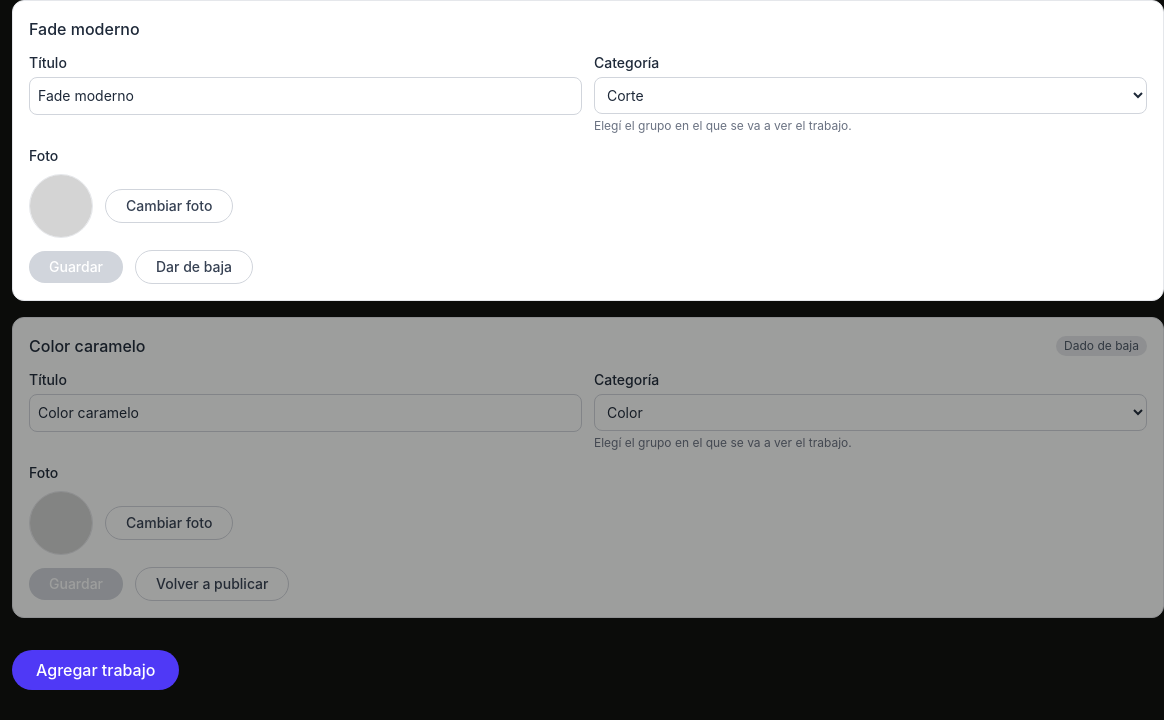
SeccionGaleriaComponent › guardar un trabajo › al guardar un trabajo dado de baja confirma que ya no se ve
Replace the text in the field labelled "Título" below "Color caramelo" with "Color caramelo nuevo" at (306, 413), box x1=29 y1=394 x2=582 y2=432
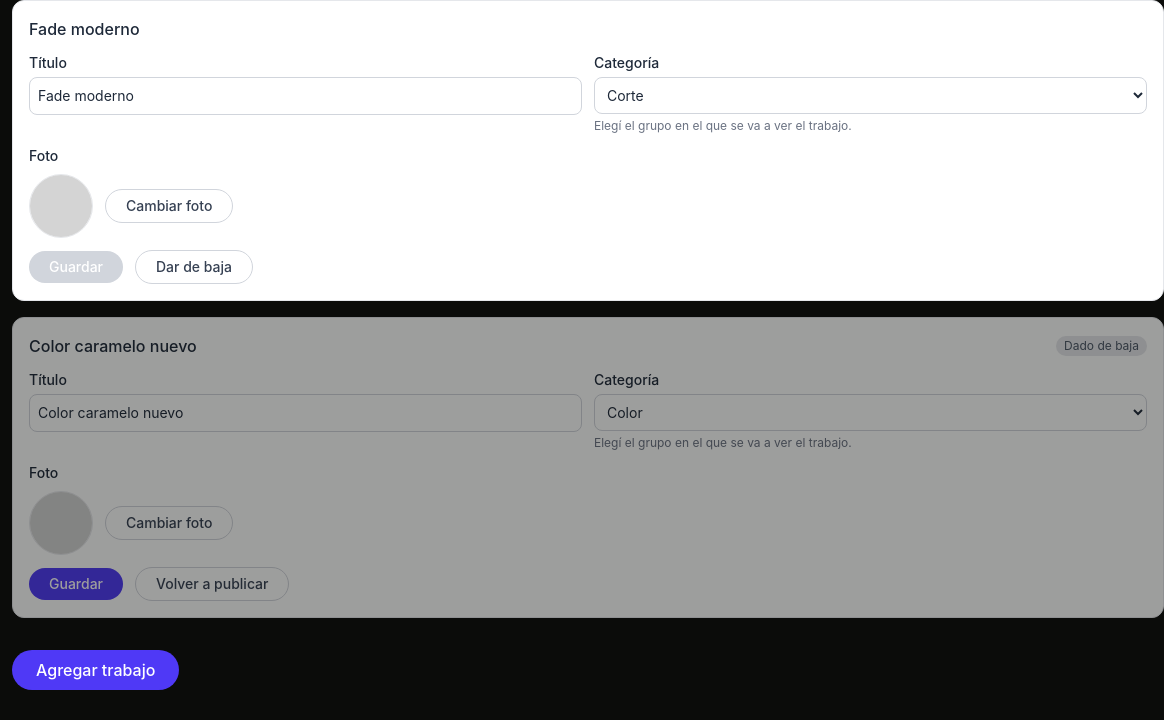
Click the button "Guardar" below "Color caramelo nuevo" at (76, 584), box x1=29 y1=568 x2=123 y2=600
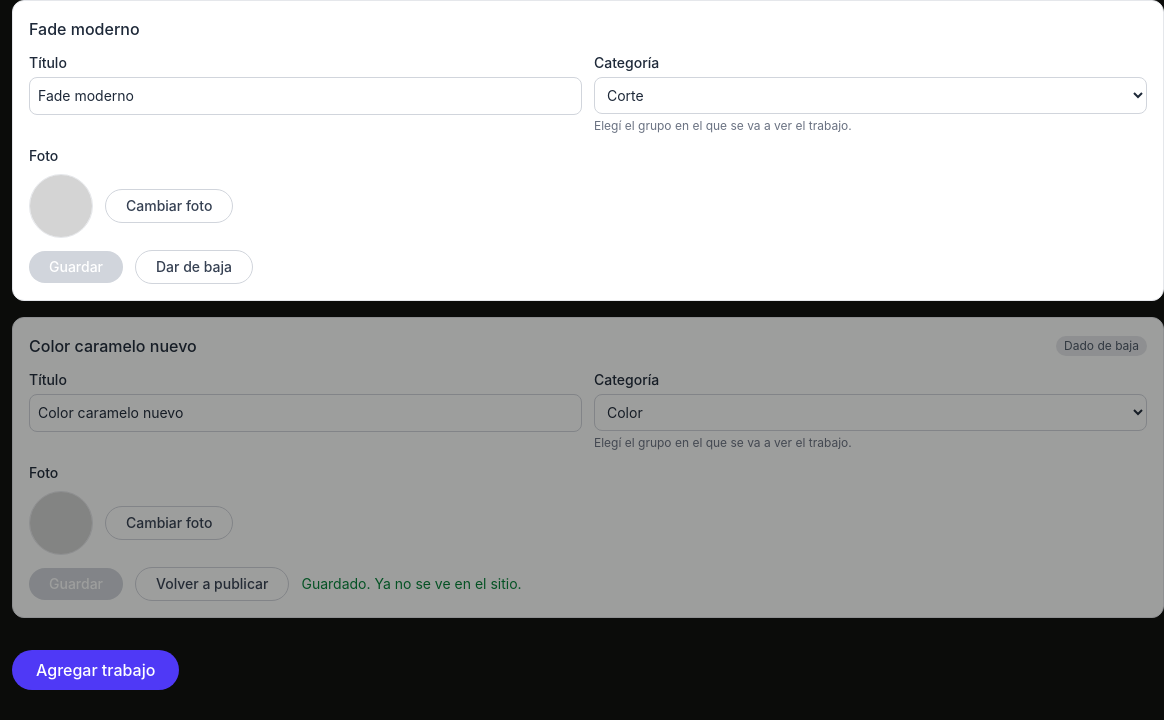
Result: the list item that starts with "Color caramelo nuevo" shows "Guardado. Ya no se ve en el sitio." at x1=302 y1=575 x2=522 y2=592
